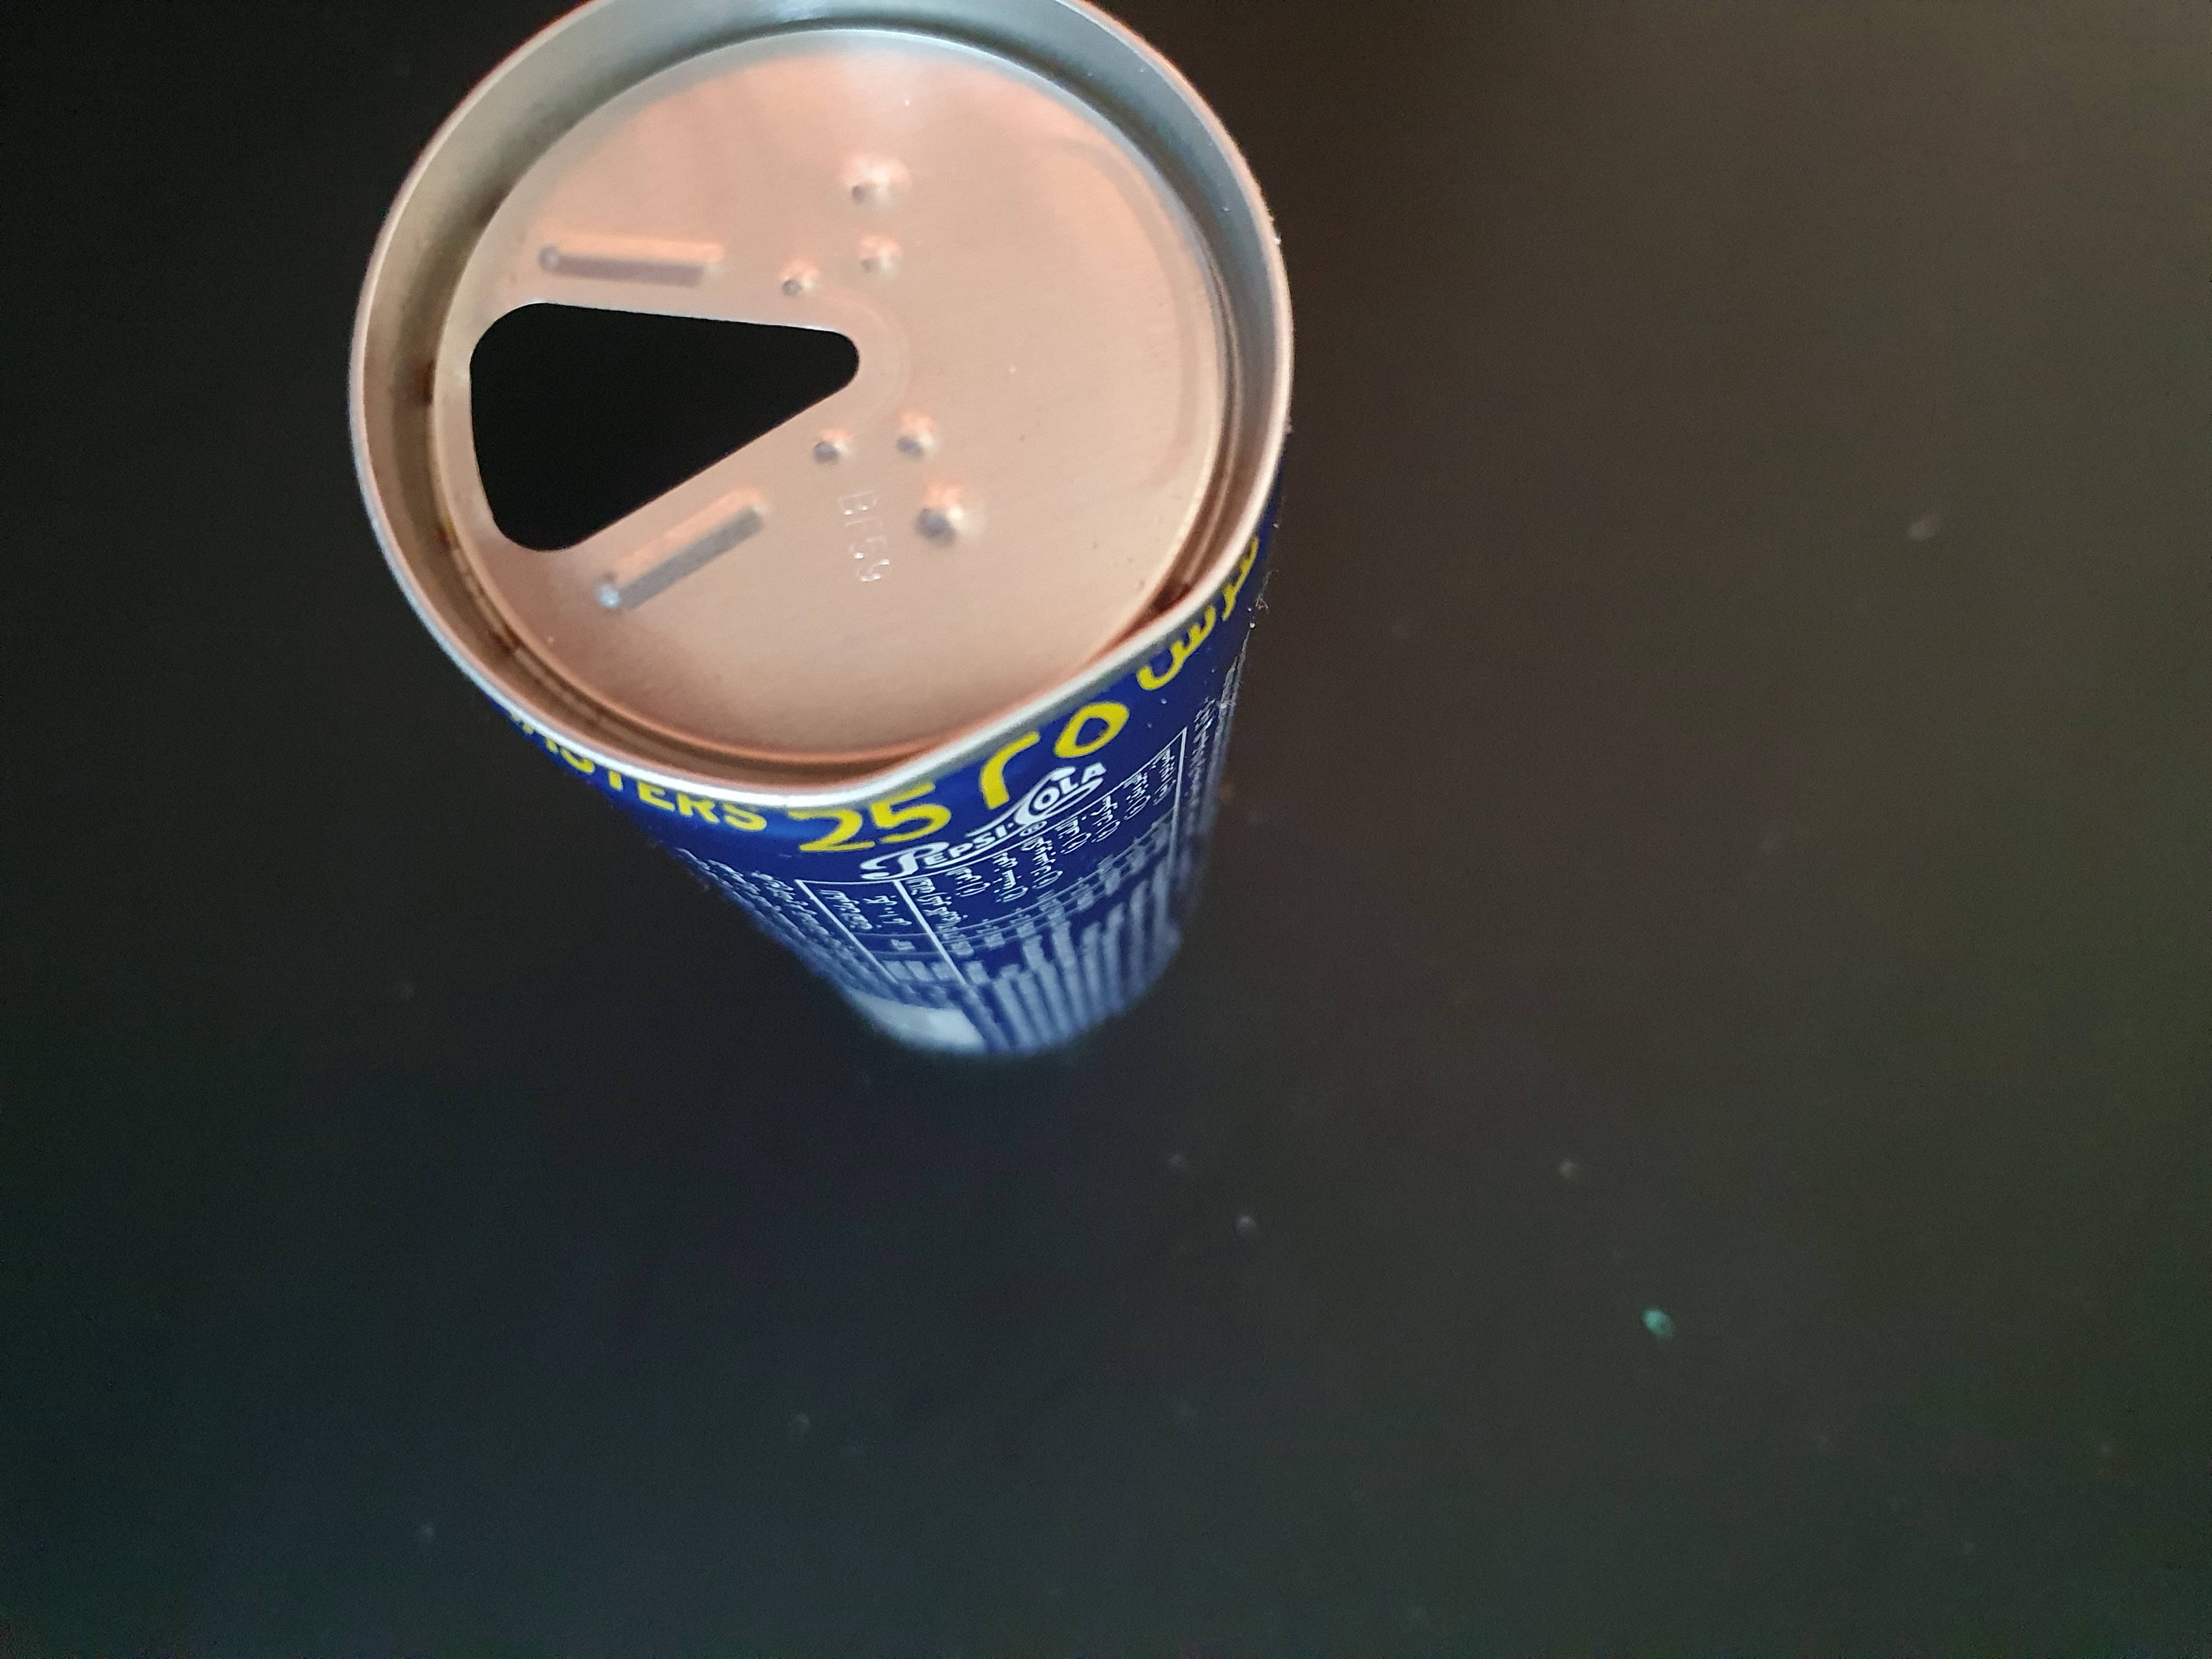metal: (334, 0, 1338, 1150)
